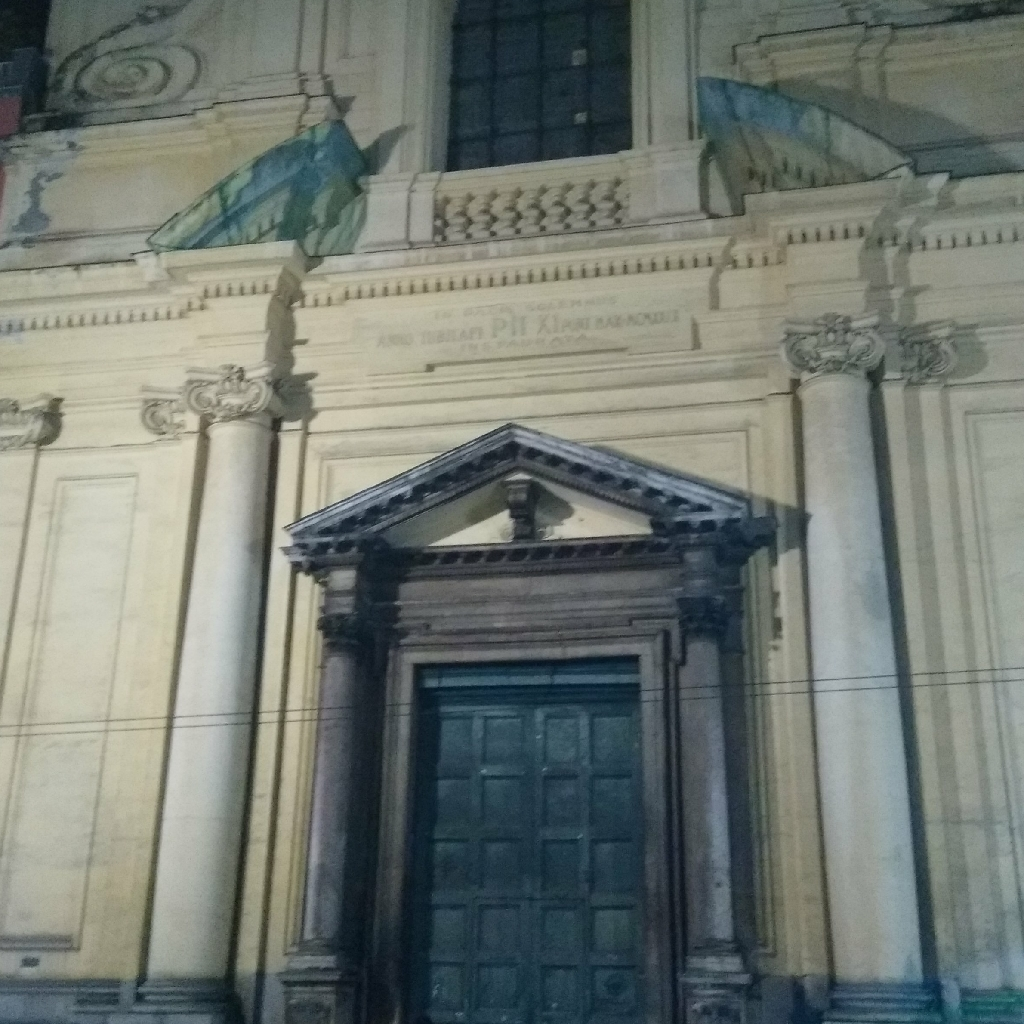fronton: (282, 416, 759, 564)
fronton-partido: (142, 76, 923, 277)
vano-adintelado: (371, 619, 680, 1024)
